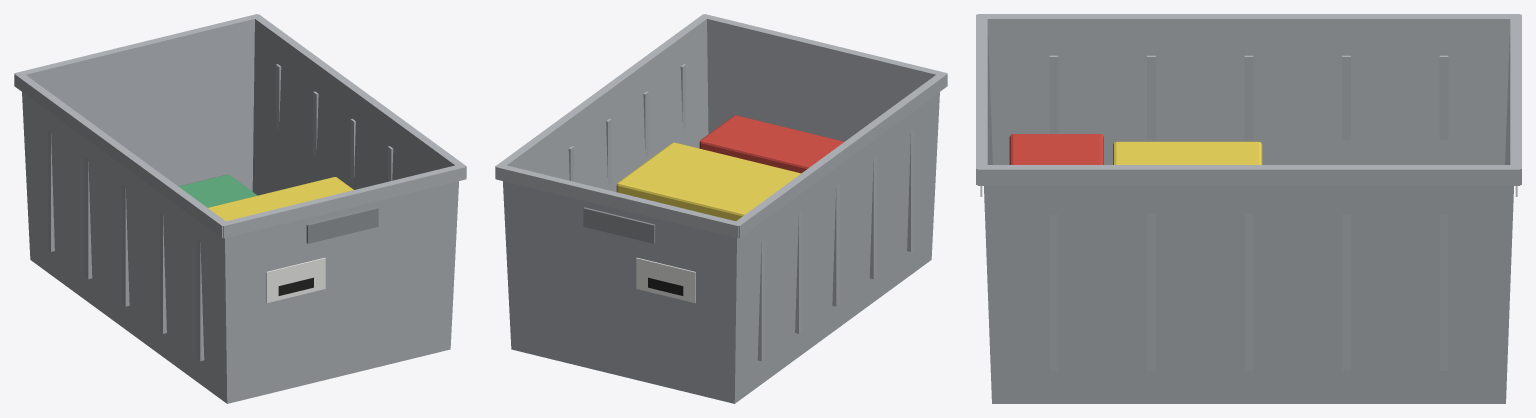
File: haipick_tote_v2.fbx
The picture shows the model from 3 angles, left to right: view 1: azimuth 30°, elevation 25°; view 2: azimuth 150°, elevation 25°; view 3: azimuth 270°, elevation 25°; orthographic projection. The views are drawn at different scales.
Visible parts, largest first — view 1: HaiTote_v2; view 2: HaiTote_v2; view 3: HaiTote_v2.
Boxes of the visible parts, <box> form: HaiTote_v2: <box>14,14,466,403</box>; HaiTote_v2: <box>495,14,947,403</box>; HaiTote_v2: <box>976,14,1521,403</box>.
Size of the model in its own units: 0.416 by 0.3 by 0.616.
